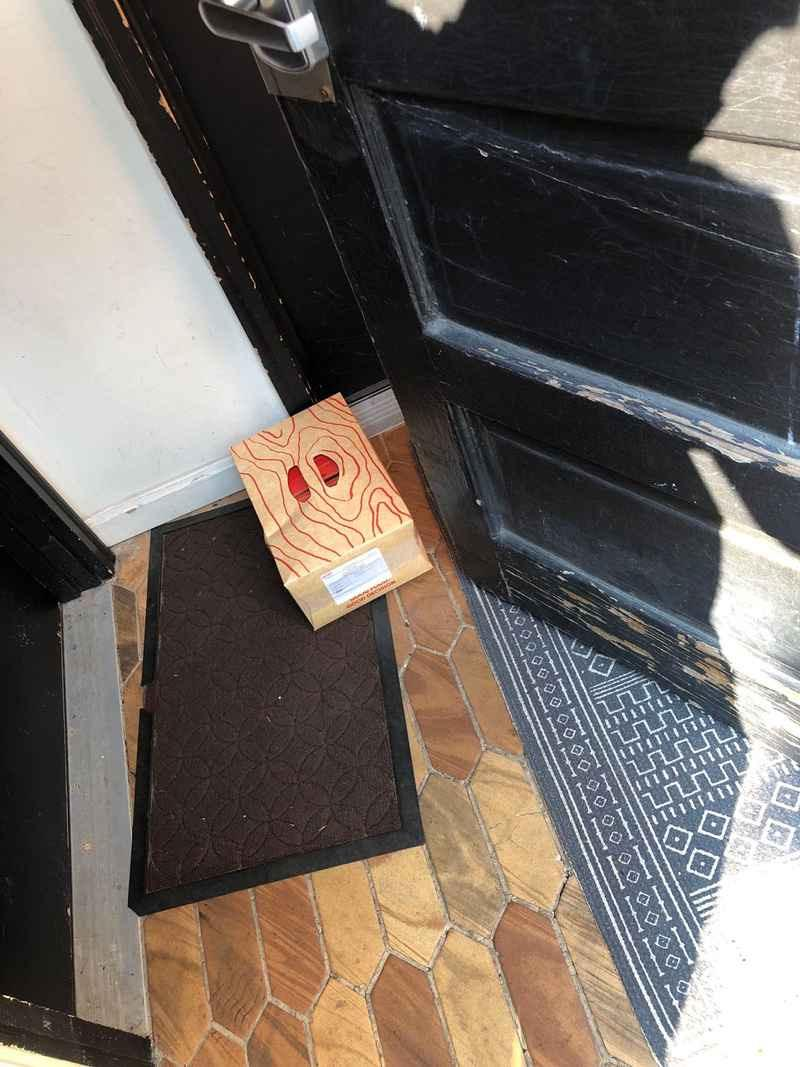package: (226, 408, 421, 623)
